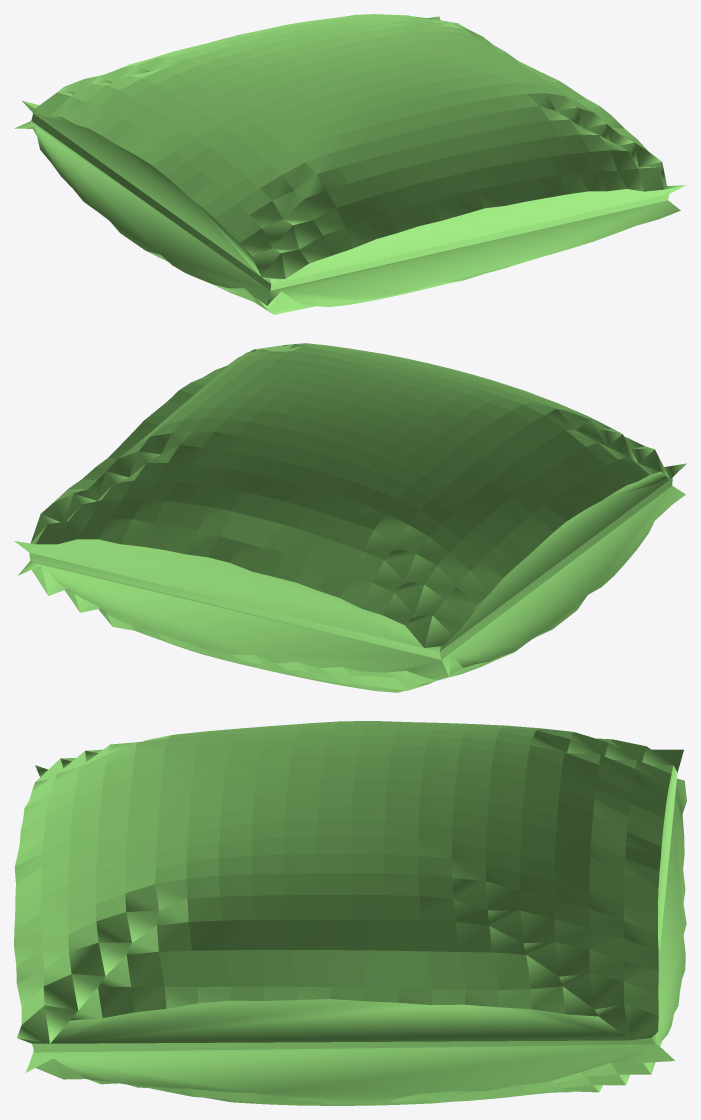
File: Pillow 14.fbx
3 views of the same model, one above another, from view 1: azimuth 30°, elevation 25°; view 2: azimuth 150°, elevation 25°; view 3: azimuth 270°, elevation 25° (orthographic). The views are drawn at different scales.
Parts seen in each view (by area): view 1: Node 0; view 2: Node 0; view 3: Node 0.
Part boxes in pixels (box(x1,y1,x2,y2)): Node 0: box(14, 14, 686, 314); Node 0: box(14, 343, 686, 692); Node 0: box(14, 721, 686, 1105).
Bounding box in the file's own units: 0.6229 × 0.2684 × 0.6251.
